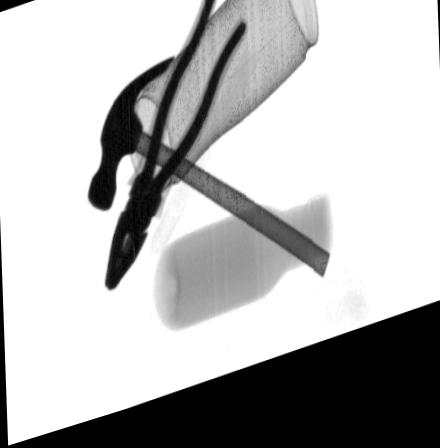Hammer: (85, 67, 328, 301)
Pliers: (103, 0, 247, 300)
